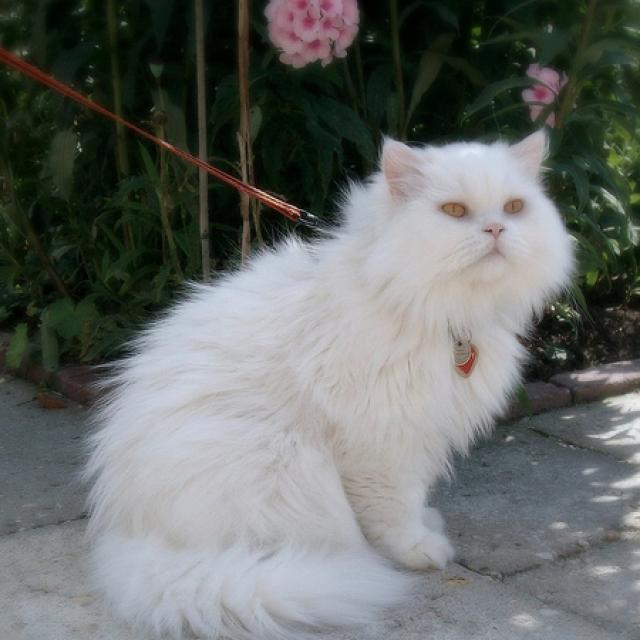Persian: (73, 122, 583, 629)
